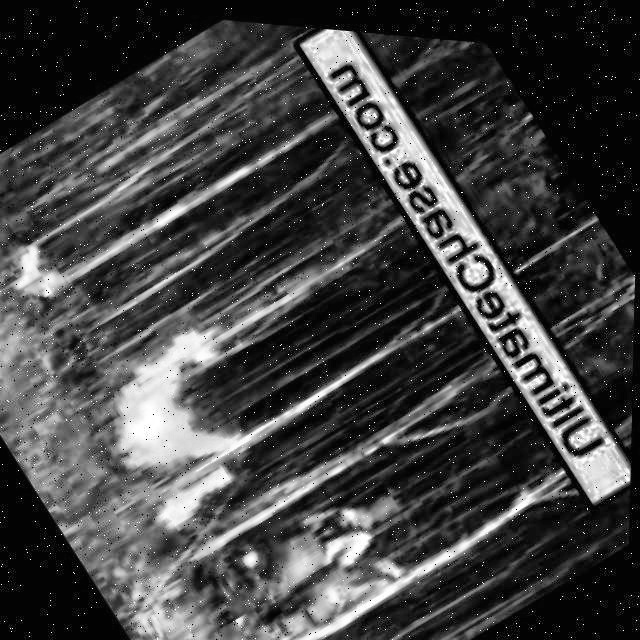Fire: (81, 299, 283, 506), (79, 315, 250, 493), (152, 455, 238, 532), (0, 227, 70, 310)
